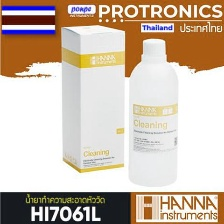book: (59, 22, 126, 174)
cleaning_solution: (127, 38, 181, 190)
